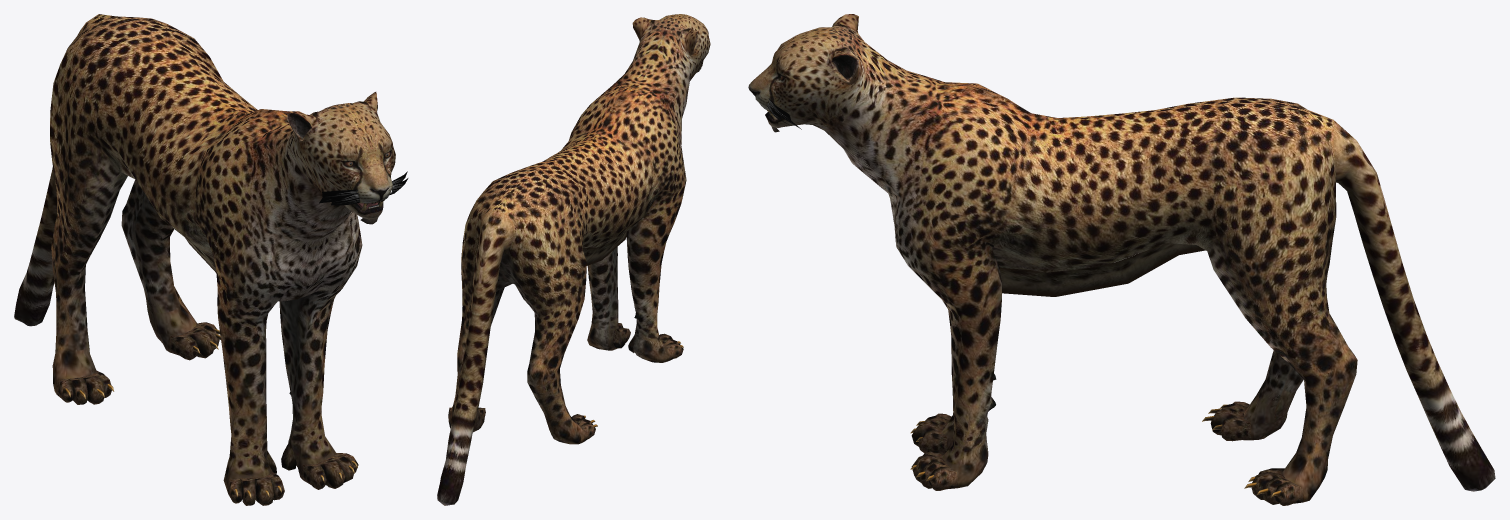
The model's file is leopard.glb.
3 views of the same model, side by side, from view 1: azimuth 30°, elevation 25°; view 2: azimuth 150°, elevation 25°; view 3: azimuth 270°, elevation 25° (orthographic). The views are drawn at different scales.
Visible parts, largest first — view 1: Cheetah(1); view 2: Cheetah(1); view 3: Cheetah(1).
Boxes of the visible parts, left/top/right/bottom form: Cheetah(1): left=14, top=14, right=408, bottom=505; Cheetah(1): left=437, top=14, right=710, bottom=505; Cheetah(1): left=748, top=14, right=1495, bottom=505.
Size of what is drawn, in the model's own units: 44.98 by 107 by 158.
Materials: 1 (1 with a texture image).
